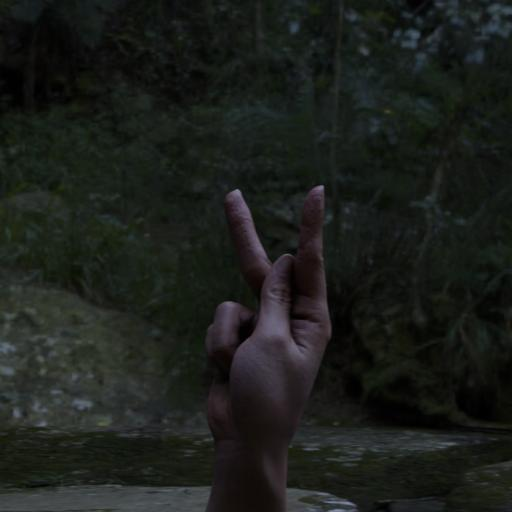K: (176, 169, 342, 483)
